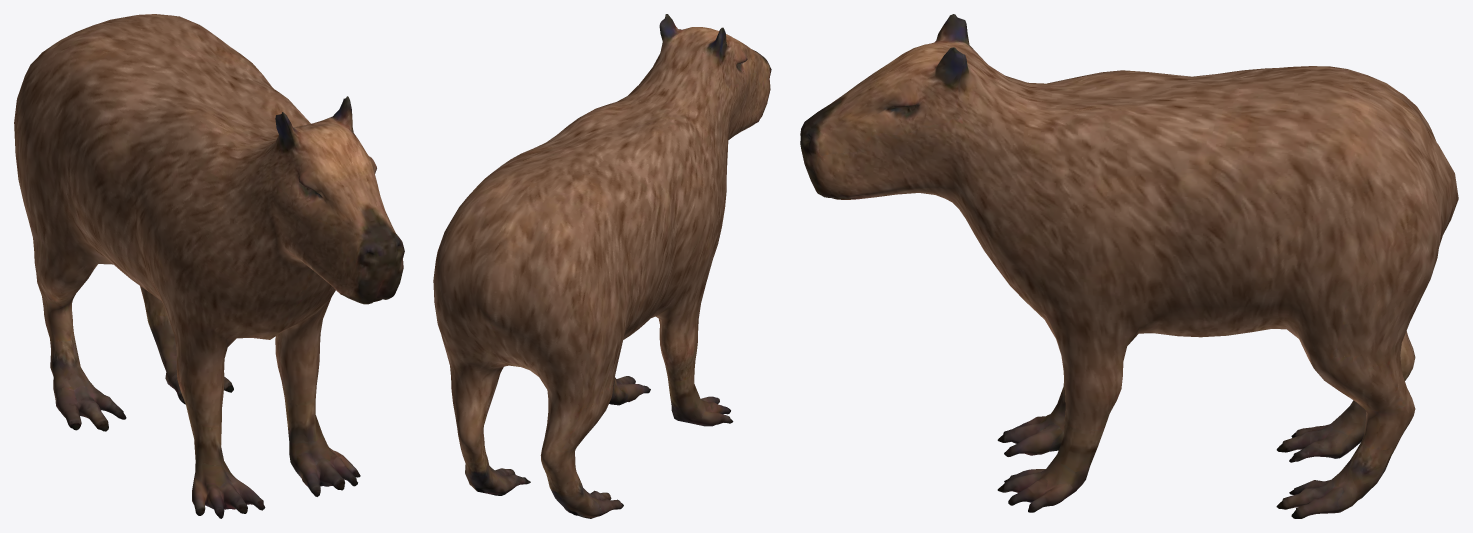
File: capy.glb
The picture shows the model from 3 angles, left to right: view 1: azimuth 30°, elevation 25°; view 2: azimuth 150°, elevation 25°; view 3: azimuth 270°, elevation 25°; orthographic projection. The views are drawn at different scales.
Visible parts, largest first — view 1: Object_7; view 2: Object_7; view 3: Object_7.
Boxes of the visible parts, <box> form: Object_7: <box>14,14,404,518</box>; Object_7: <box>433,14,771,518</box>; Object_7: <box>800,14,1458,518</box>.
Bounding box in the file's own units: 1.44 × 3.02 × 4.
Materials: 1 (1 with a texture image).
